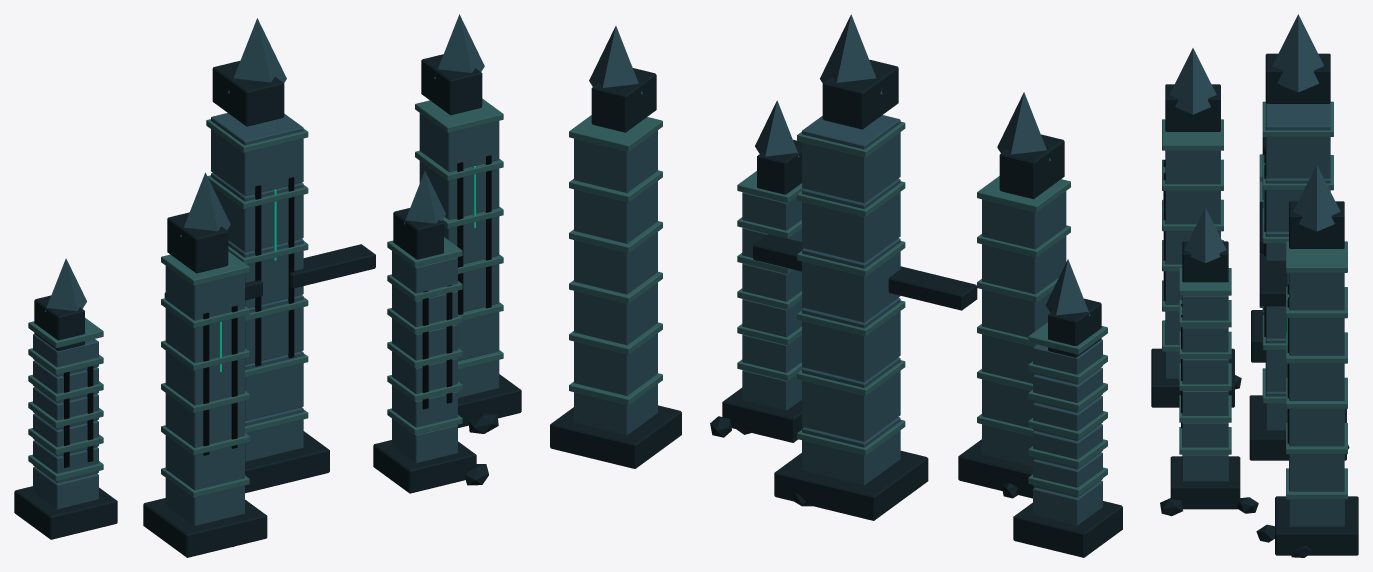
File: distant_tower_cluster.obj
3 views of the same model, side by side, from view 1: azimuth 30°, elevation 25°; view 2: azimuth 150°, elevation 25°; view 3: azimuth 270°, elevation 25° (orthographic). The views are drawn at different scales.
Visible parts, largest first — view 1: distant_tower_cluster; view 2: distant_tower_cluster; view 3: distant_tower_cluster.
Part boxes in pixels (bbox=[...]): distant_tower_cluster: bbox=[14, 14, 521, 557]; distant_tower_cluster: bbox=[550, 14, 1122, 557]; distant_tower_cluster: bbox=[1151, 14, 1358, 557].
Size of the model in its own units: 173 by 154 by 67.
